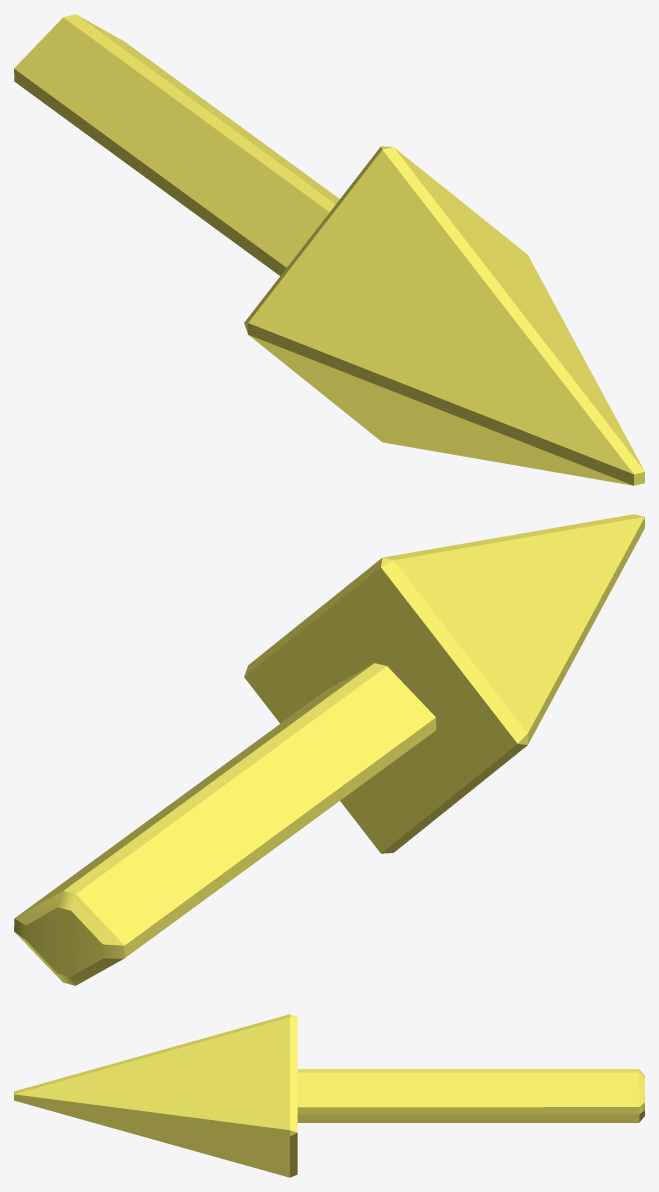
The model's file is Arrow.fbx.
3 views of the same model, one above another, from view 1: azimuth 30°, elevation 25°; view 2: azimuth 150°, elevation 25°; view 3: azimuth 270°, elevation 25° (orthographic). The views are drawn at different scales.
Parts seen in each view (by area): view 1: Arrow, Arrow_Body; view 2: Arrow, Arrow_Body; view 3: Arrow, Arrow_Body.
Boxes of the visible parts, x1,y1,x2,y2 form: Arrow: (244, 146, 644, 485); Arrow_Body: (14, 14, 339, 275); Arrow: (244, 514, 644, 853); Arrow_Body: (14, 663, 436, 985); Arrow: (14, 1014, 297, 1177); Arrow_Body: (297, 1069, 644, 1122).
Size of the model in its own units: 1.33 by 1.33 by 4.72.
